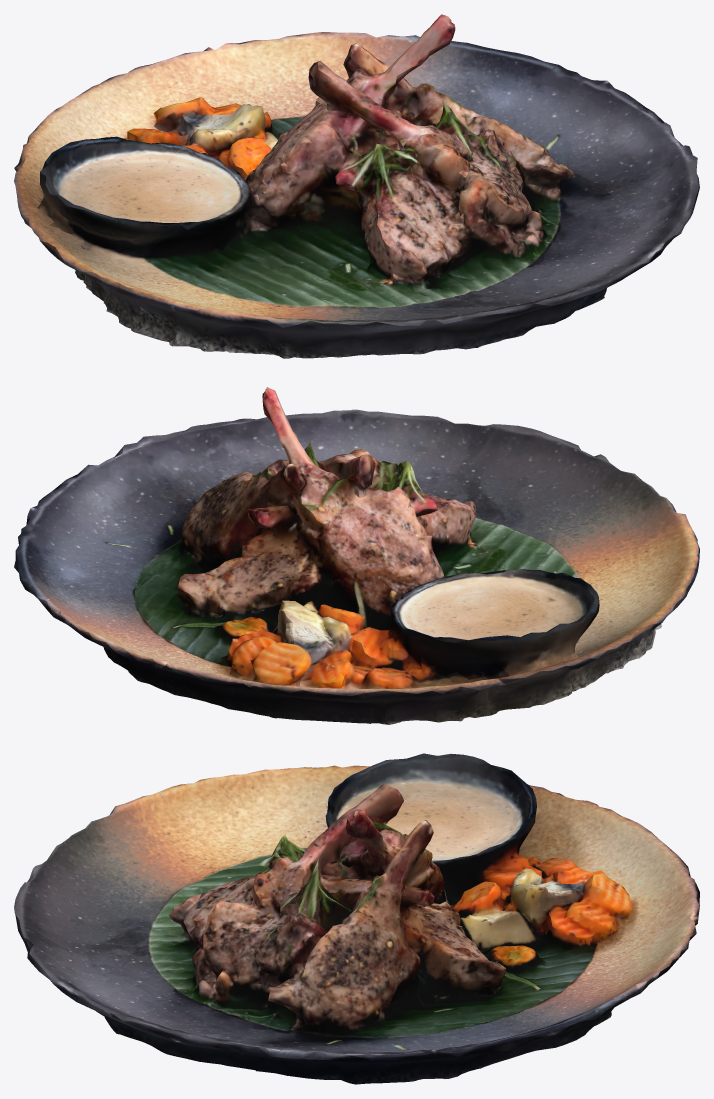
File: prvo-raw.glb
3 views of the same model, one above another, from view 1: azimuth 30°, elevation 25°; view 2: azimuth 150°, elevation 25°; view 3: azimuth 270°, elevation 25° (orthographic).
Visible parts, largest first — view 1: Object_2; view 2: Object_2; view 3: Object_2.
Part boxes in pixels (<box>): Object_2: <box>14,14,699,358</box>; Object_2: <box>14,387,699,724</box>; Object_2: <box>14,753,699,1084</box>.
Size of the model in its own units: 307 by 100 by 305.
Materials: 1 (1 with a texture image).
